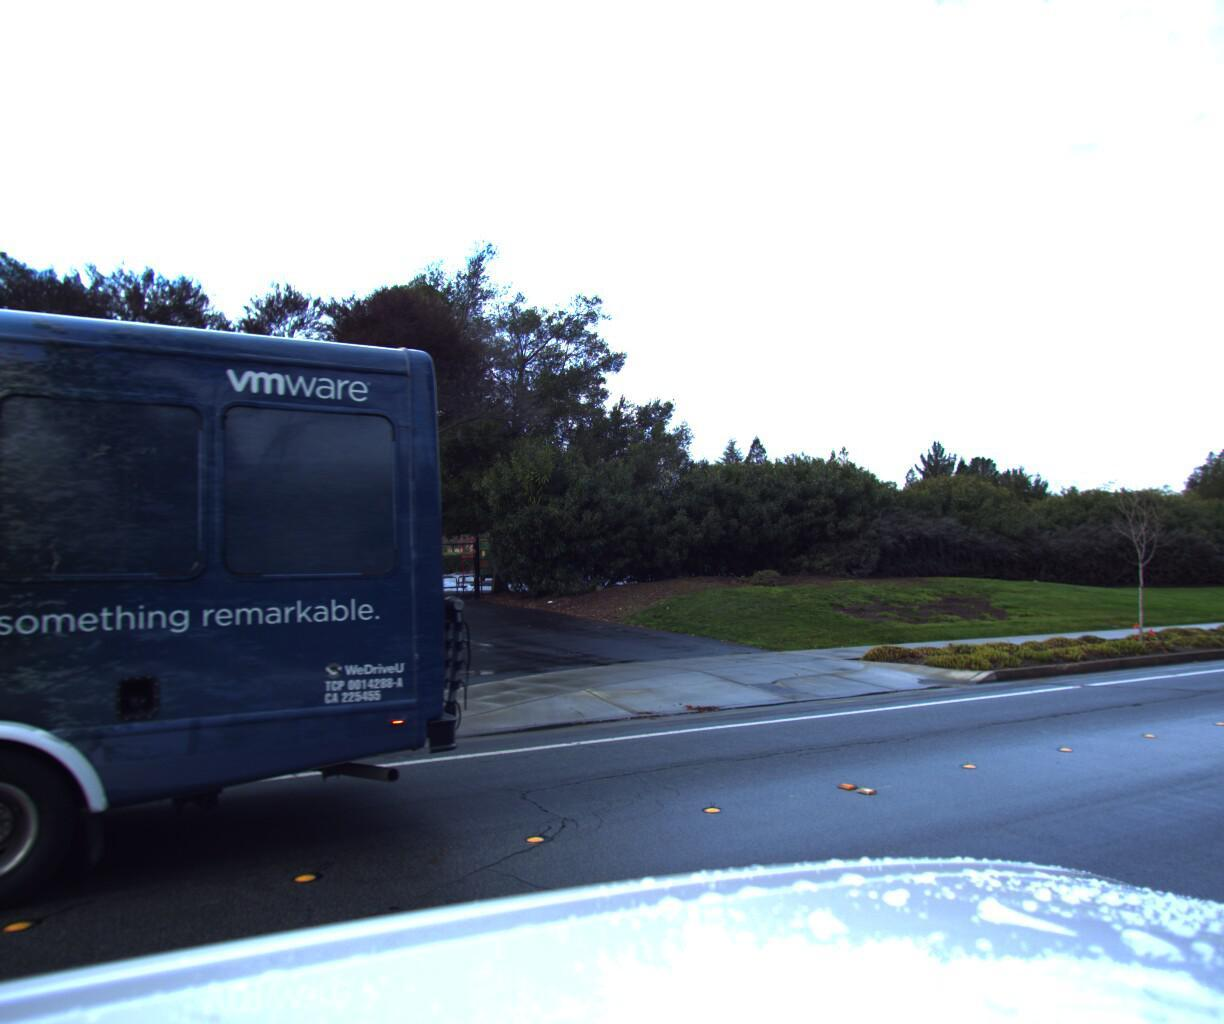bus: (0, 0, 512, 1024)
